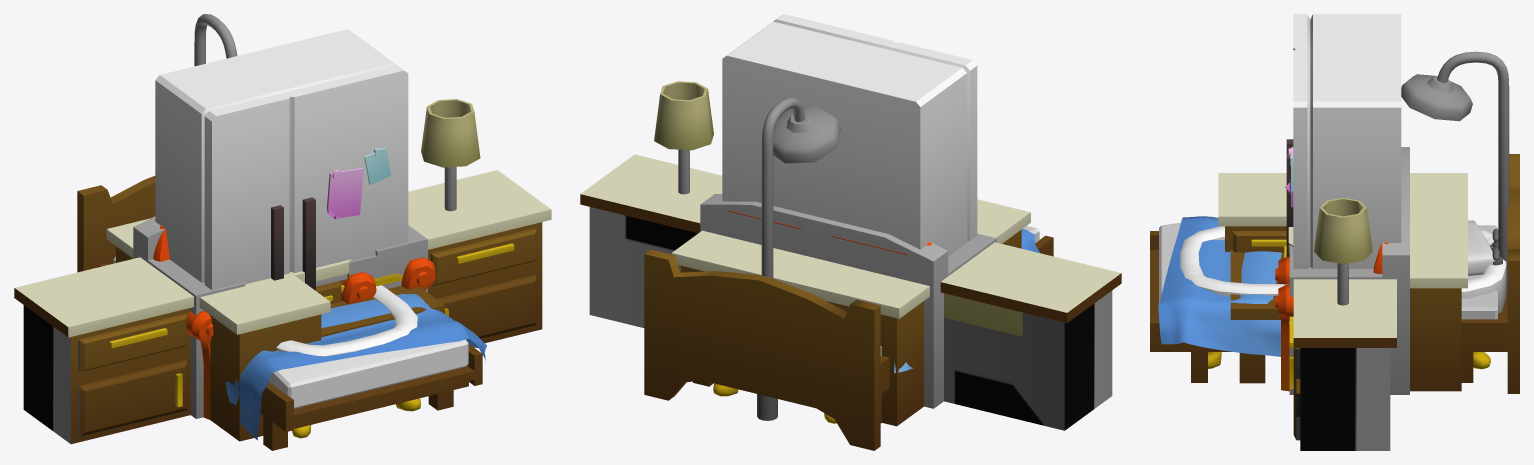
File: AllFurniture.FBX
3 views of the same model, side by side, from view 1: azimuth 30°, elevation 25°; view 2: azimuth 150°, elevation 25°; view 3: azimuth 270°, elevation 25° (orthographic). The views are drawn at different scales.
Visible parts, largest first — view 1: Fridge, KitchenCounterLong, Bed, KitchenCounterLBlock, Stove, Bathtub, Lamp, Couch, LargeTable, Dresser, Chair; view 2: Fridge, KitchenCounterLong, Bed, KitchenCounterLBlock, Stove, Bathtub, Lamp; view 3: Fridge, Bed, KitchenCounterLBlock, KitchenCounterLong, Bathtub, Stove, Lamp, LargeTable, Couch.
Boxes of the visible parts, <box> form: Fridge: <box>155,29,408,290</box>; KitchenCounterLong: <box>14,170,551,444</box>; Bed: <box>77,176,486,450</box>; KitchenCounterLBlock: <box>106,218,330,441</box>; Stove: <box>133,216,427,418</box>; Bathtub: <box>194,14,420,438</box>; Lamp: <box>421,99,480,211</box>; Couch: <box>153,225,435,419</box>; LargeTable: <box>321,285,444,337</box>; Dresser: <box>292,259,351,304</box>; Chair: <box>341,272,376,303</box>; Fridge: <box>722,14,977,256</box>; KitchenCounterLong: <box>580,154,1121,430</box>; Bed: <box>644,226,1053,450</box>; KitchenCounterLBlock: <box>671,199,1030,426</box>; Stove: <box>700,194,996,408</box>; Bathtub: <box>713,97,840,423</box>; Lamp: <box>654,81,713,194</box>; Fridge: <box>1285,14,1401,268</box>; Bed: <box>1150,154,1519,393</box>; KitchenCounterLBlock: <box>1218,173,1467,391</box>; KitchenCounterLong: <box>1289,279,1396,450</box>; Bathtub: <box>1180,51,1509,369</box>; Stove: <box>1289,147,1409,394</box>; Lamp: <box>1314,197,1372,305</box>; LargeTable: <box>1230,249,1284,383</box>; Couch: <box>1275,242,1388,391</box>.
Size of the model in its own units: 197 by 117 by 136.
Materials: 1 (1 with a texture image).
